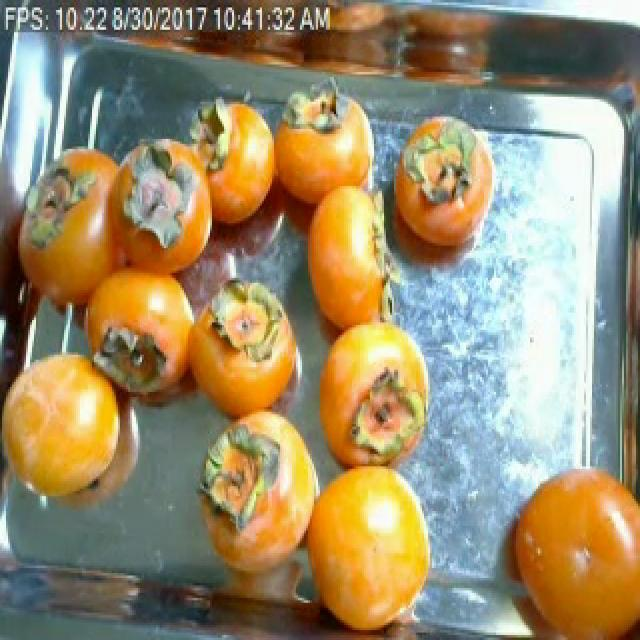Fruit: (0, 330, 172, 533), (286, 446, 446, 640), (492, 449, 640, 640)
